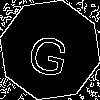G: (25, 25, 73, 79)
